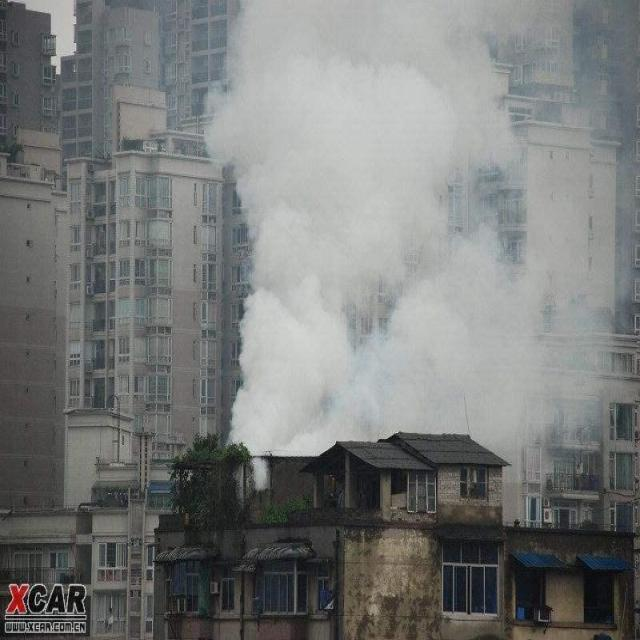Smoke: (199, 0, 640, 508)
